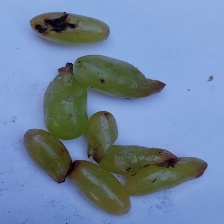grapes: (0, 19, 193, 167)
